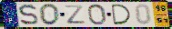0: (134, 3, 153, 26)
D: (110, 4, 133, 26)
O: (39, 3, 61, 26), (86, 3, 107, 26)
S: (17, 3, 40, 26)
Z: (64, 5, 87, 24)
